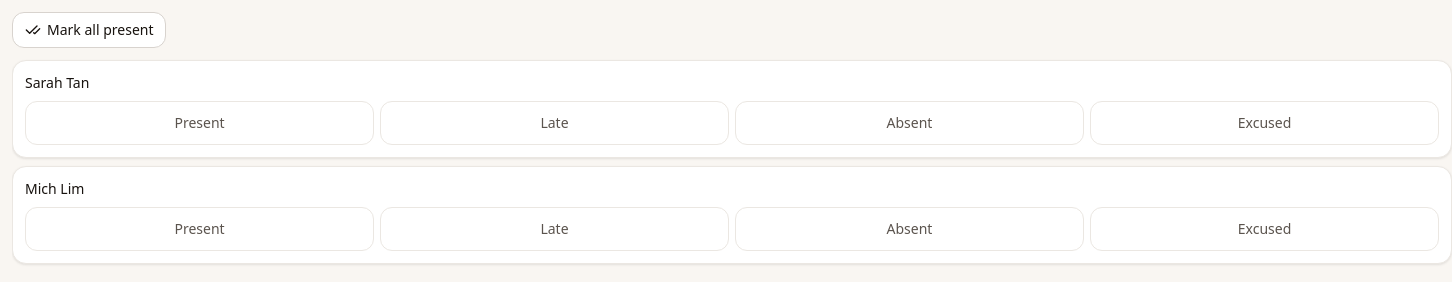
Test case: AttendanceStrip › offers "mark all present" only while more than one student is unmarked
This screenshot has width=1452, height=282.
Click the button "Mark all present": (89, 30) x1=12 y1=12 x2=166 y2=48
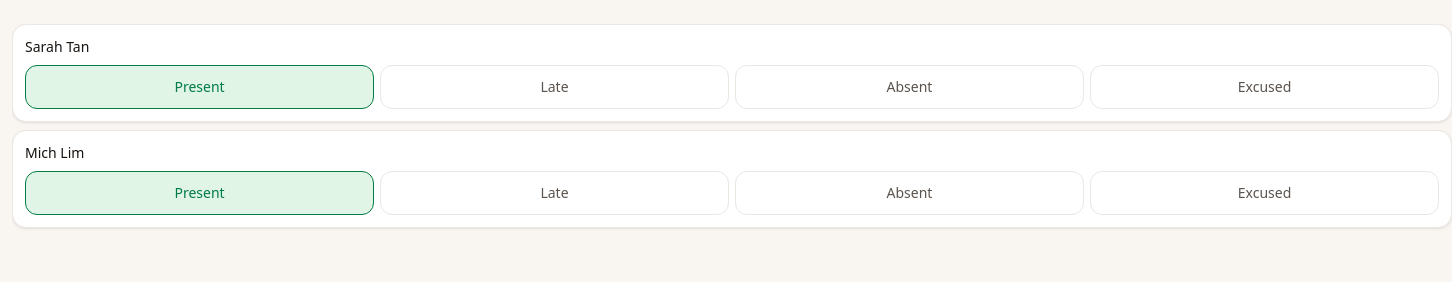
Expected: the button "Mark all present" is gone
